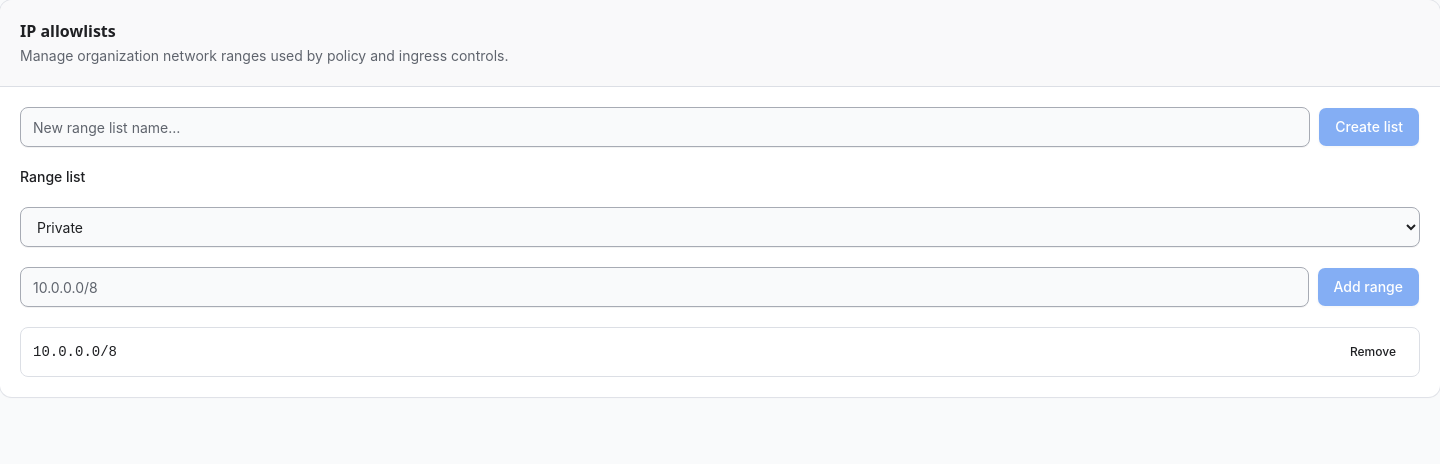
Scenario: manages CIDR lists and ranges through the JSON API
Check: the text "10.0.0.0/8" is shown, box [33,342,117,362]
Type "192.168.0.0/16" into the field named "CIDR range" at (664, 287), box [20,267,1308,307]
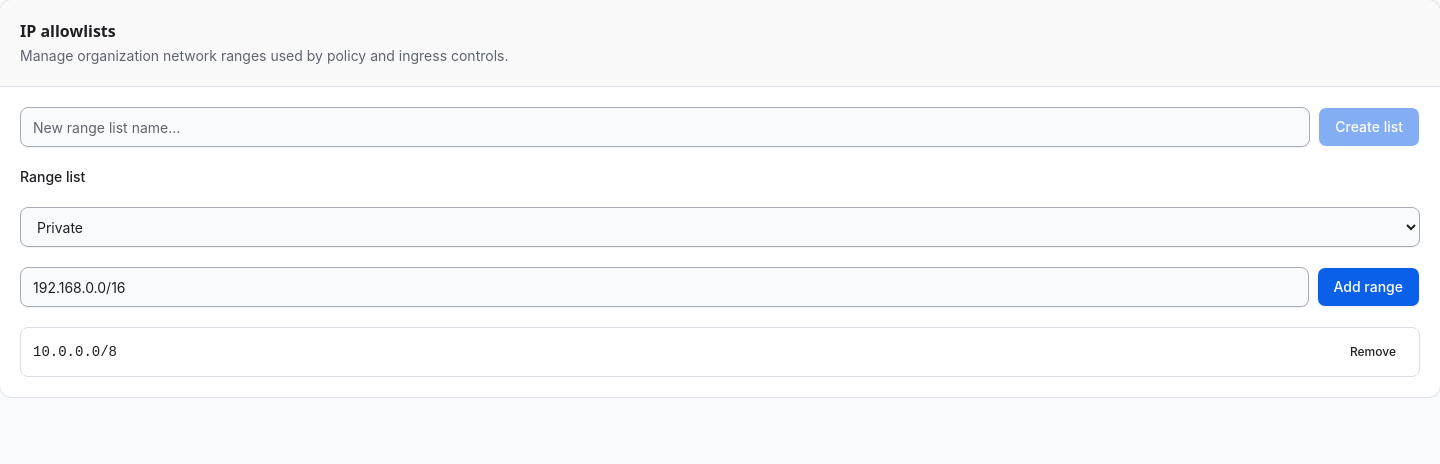
Click the button "Add range" at (1368, 287), box [1316,267,1420,307]
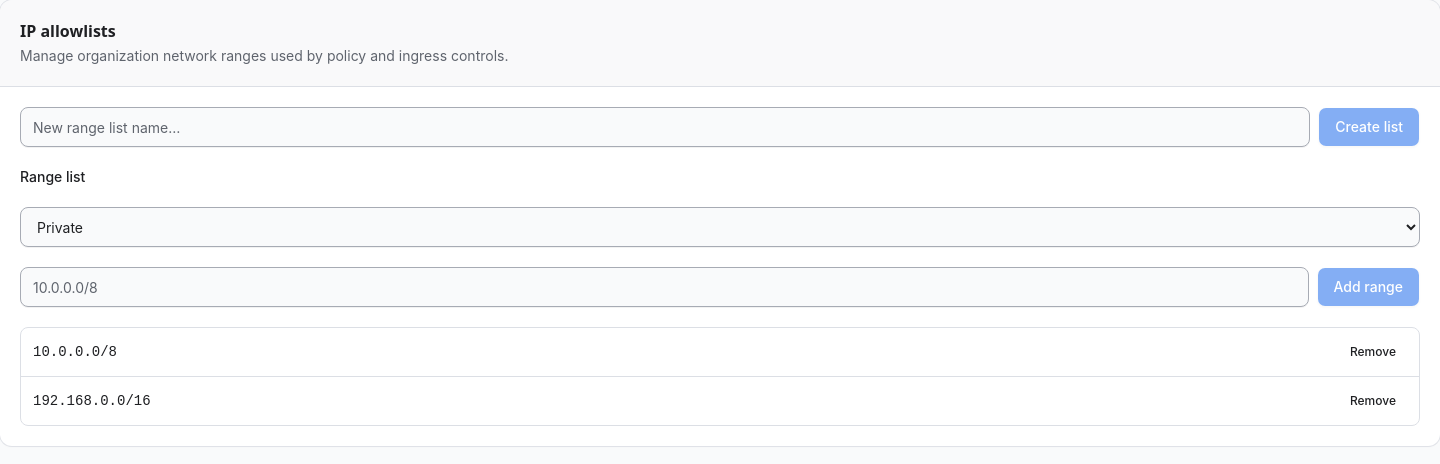
Check: the text "192.168.0.0/16" is shown, box [33,391,151,411]
